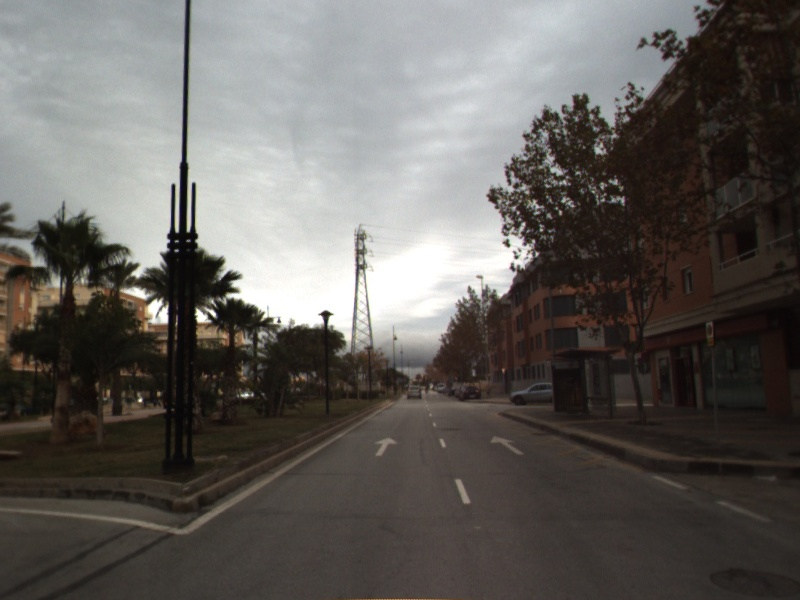STRAIGHT: (488, 433, 526, 457), (372, 435, 400, 458)
